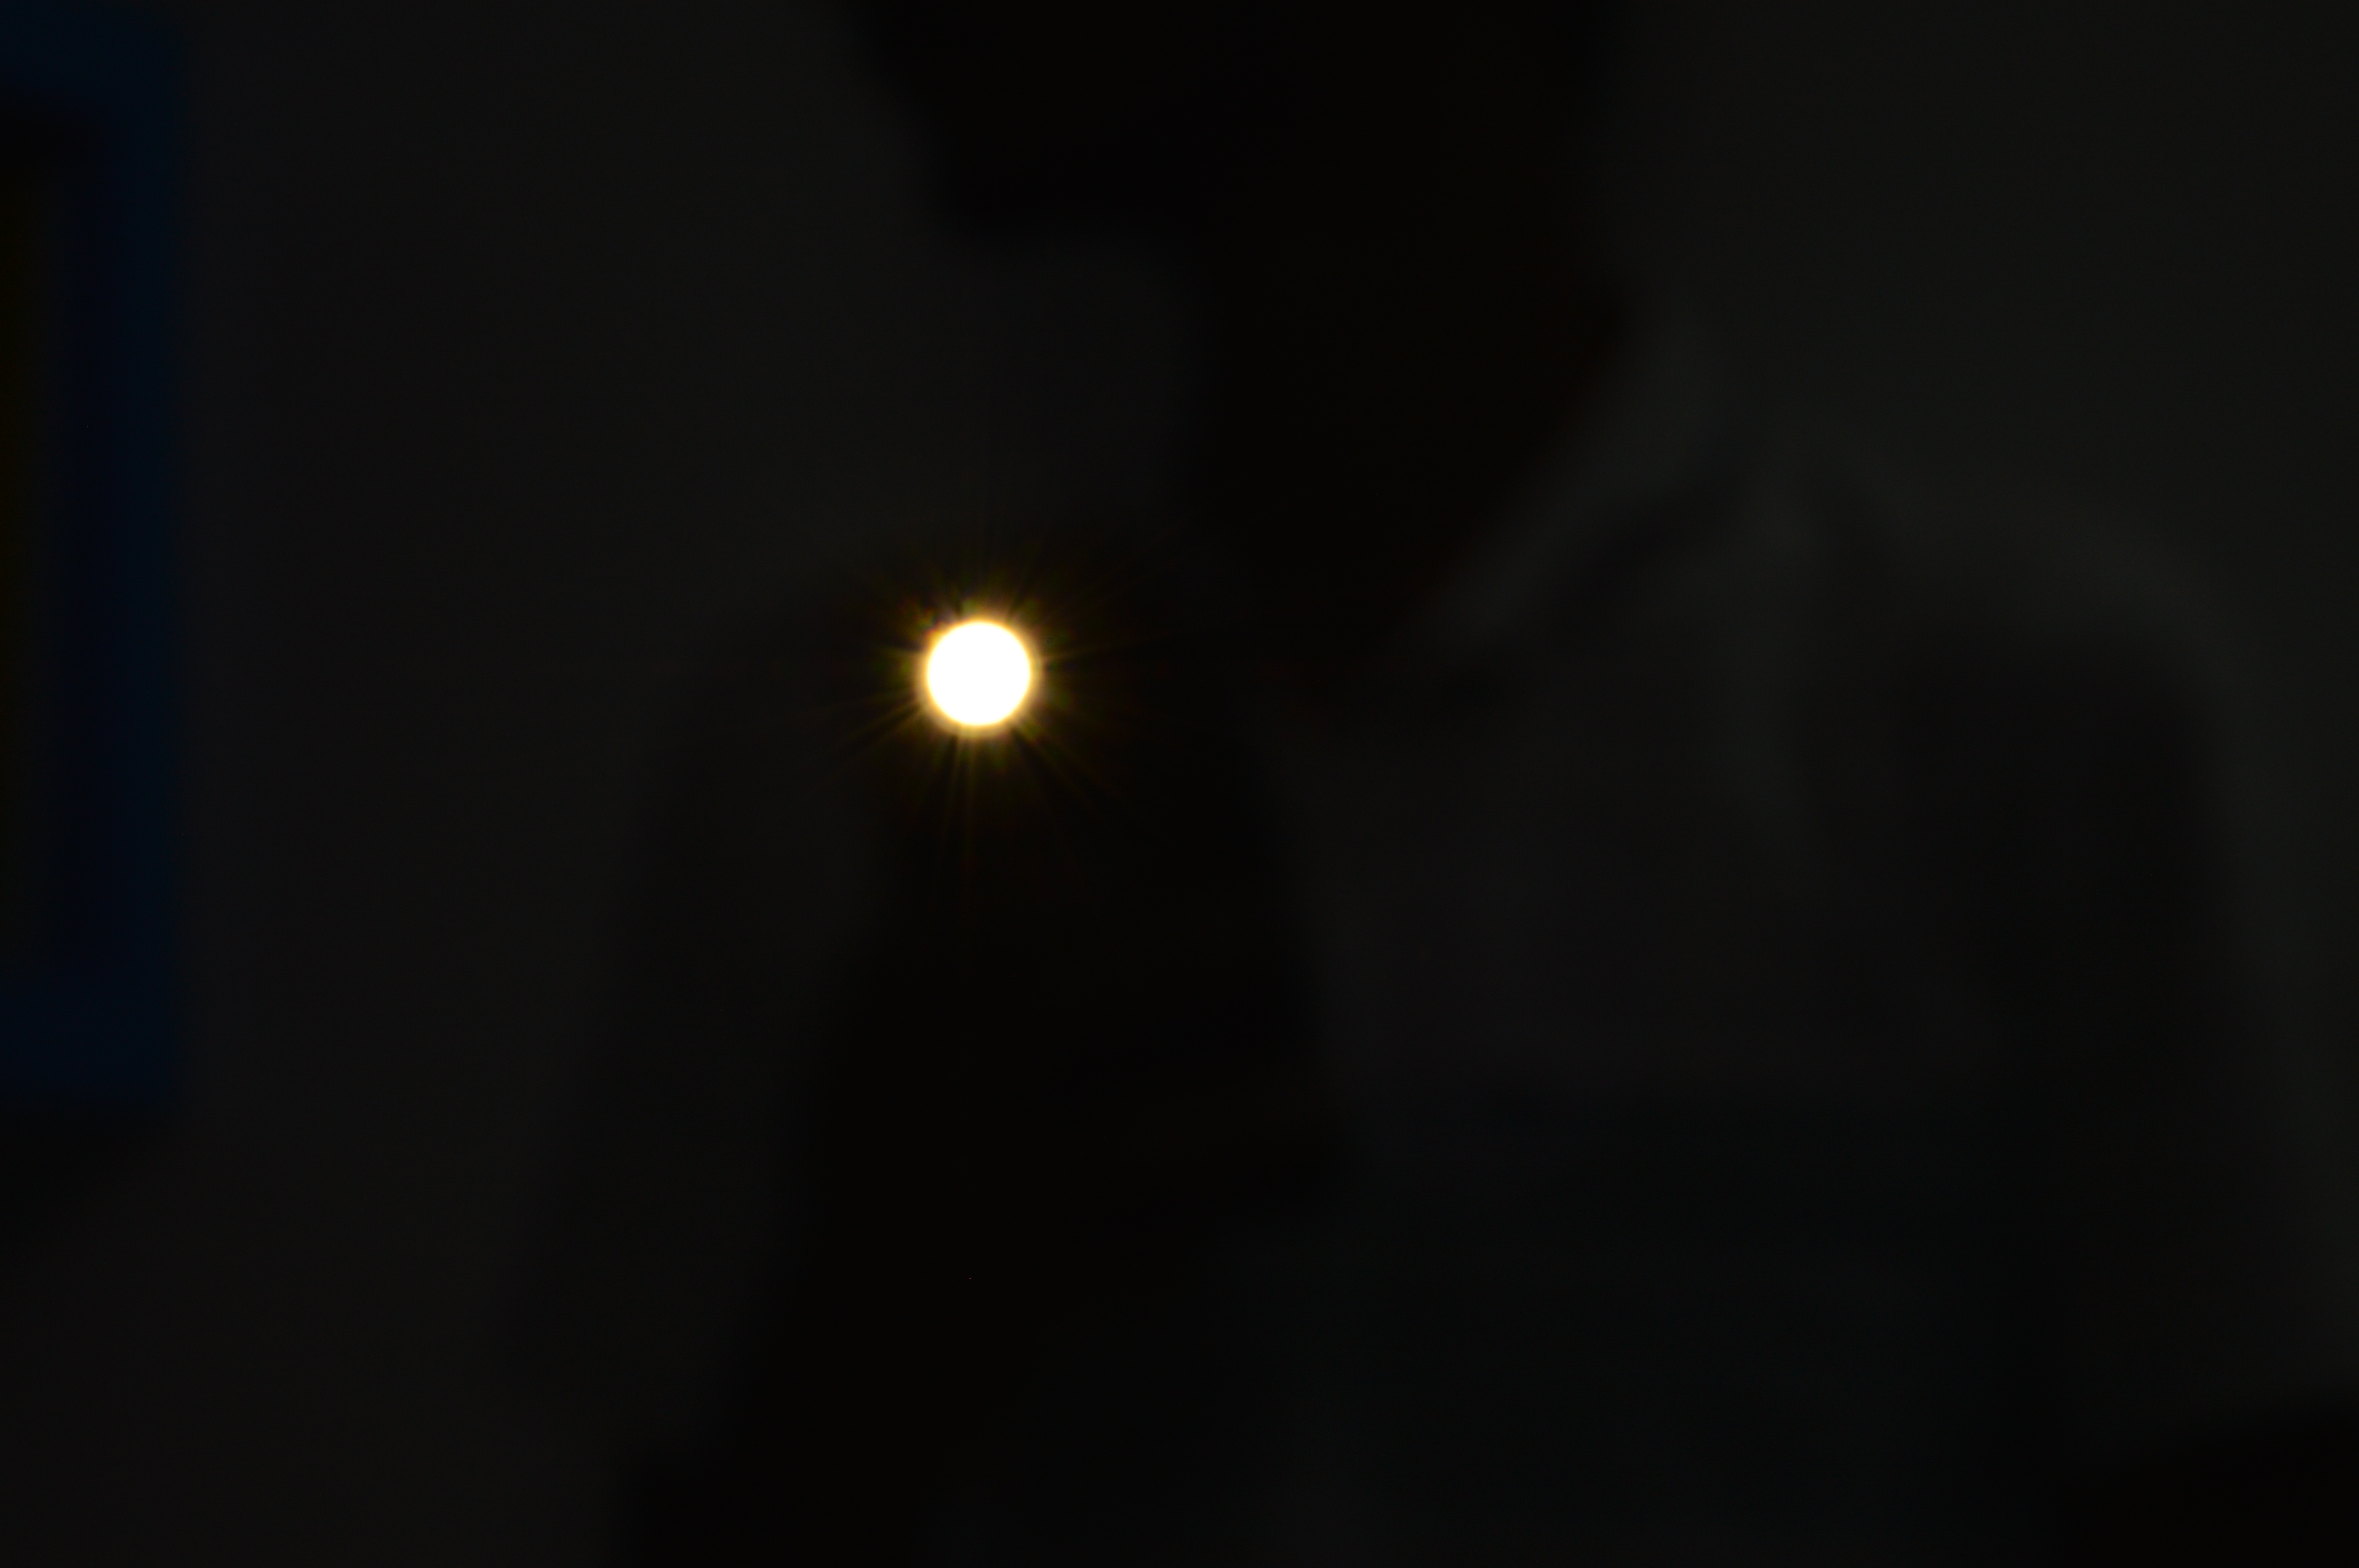Glare: (917, 618, 1041, 738)
